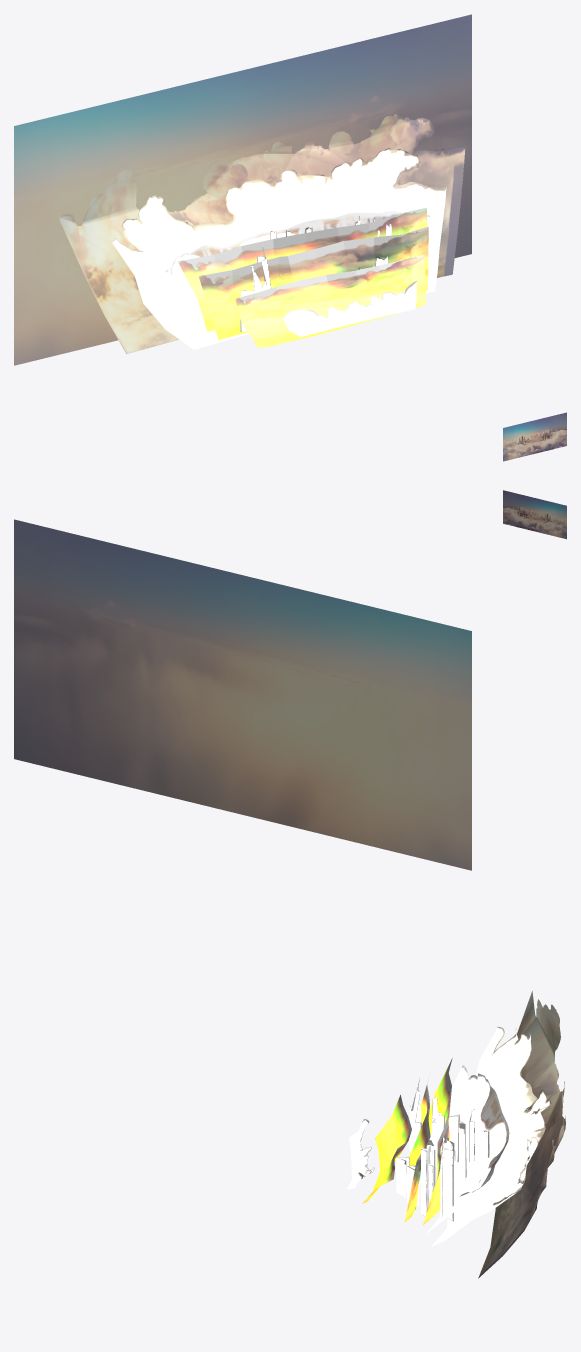
File: cs-skycity.glb
3 views of the same model, one above another, from view 1: azimuth 30°, elevation 25°; view 2: azimuth 150°, elevation 25°; view 3: azimuth 270°, elevation 25° (orthographic). The views are drawn at different scales.
Parts seen in each view (by area): view 1: Sky, Clouds_Plan3, Clouds_Plan1, Clouds_cover, Clouds_cover.001, Clouds_cover.002, Clouds_Plan2, Clouds_Front1, Background, Buildings_Plan1; view 2: Sky, Background; view 3: Clouds_Plan1, Clouds_Plan3, Clouds_Plan2, Buildings_Plan2, Clouds_cover, Clouds_cover.002, Buildings_Plan1, Clouds_cover.001, Buildings_Plan3, Clouds_Front1.
Boxes of the visible parts, bbox=[...] form: Sky: bbox=[14, 14, 471, 365]; Clouds_Plan3: bbox=[58, 113, 465, 353]; Clouds_Plan1: bbox=[112, 148, 446, 349]; Clouds_cover: bbox=[235, 255, 426, 348]; Clouds_cover.001: bbox=[199, 226, 428, 339]; Clouds_cover.002: bbox=[178, 207, 427, 331]; Clouds_Plan2: bbox=[165, 211, 430, 342]; Clouds_Front1: bbox=[283, 281, 416, 336]; Background: bbox=[503, 412, 566, 461]; Buildings_Plan1: bbox=[240, 247, 387, 331]; Sky: bbox=[14, 519, 471, 870]; Background: bbox=[503, 490, 566, 539]; Clouds_Plan1: bbox=[431, 1027, 551, 1247]; Clouds_Plan3: bbox=[478, 991, 565, 1278]; Clouds_Plan2: bbox=[425, 1065, 509, 1234]; Buildings_Plan2: bbox=[421, 1096, 459, 1221]; Clouds_cover: bbox=[362, 1095, 411, 1203]; Clouds_cover.002: bbox=[423, 1058, 452, 1224]; Buildings_Plan1: bbox=[396, 1078, 421, 1209]; Clouds_cover.001: bbox=[404, 1084, 430, 1222]; Buildings_Plan3: bbox=[458, 1109, 489, 1184]; Clouds_Front1: bbox=[347, 1119, 374, 1189].
Bounding box in the file's own units: 28.56 × 14.28 × 31.52.
Materials: 11 (11 with a texture image).
